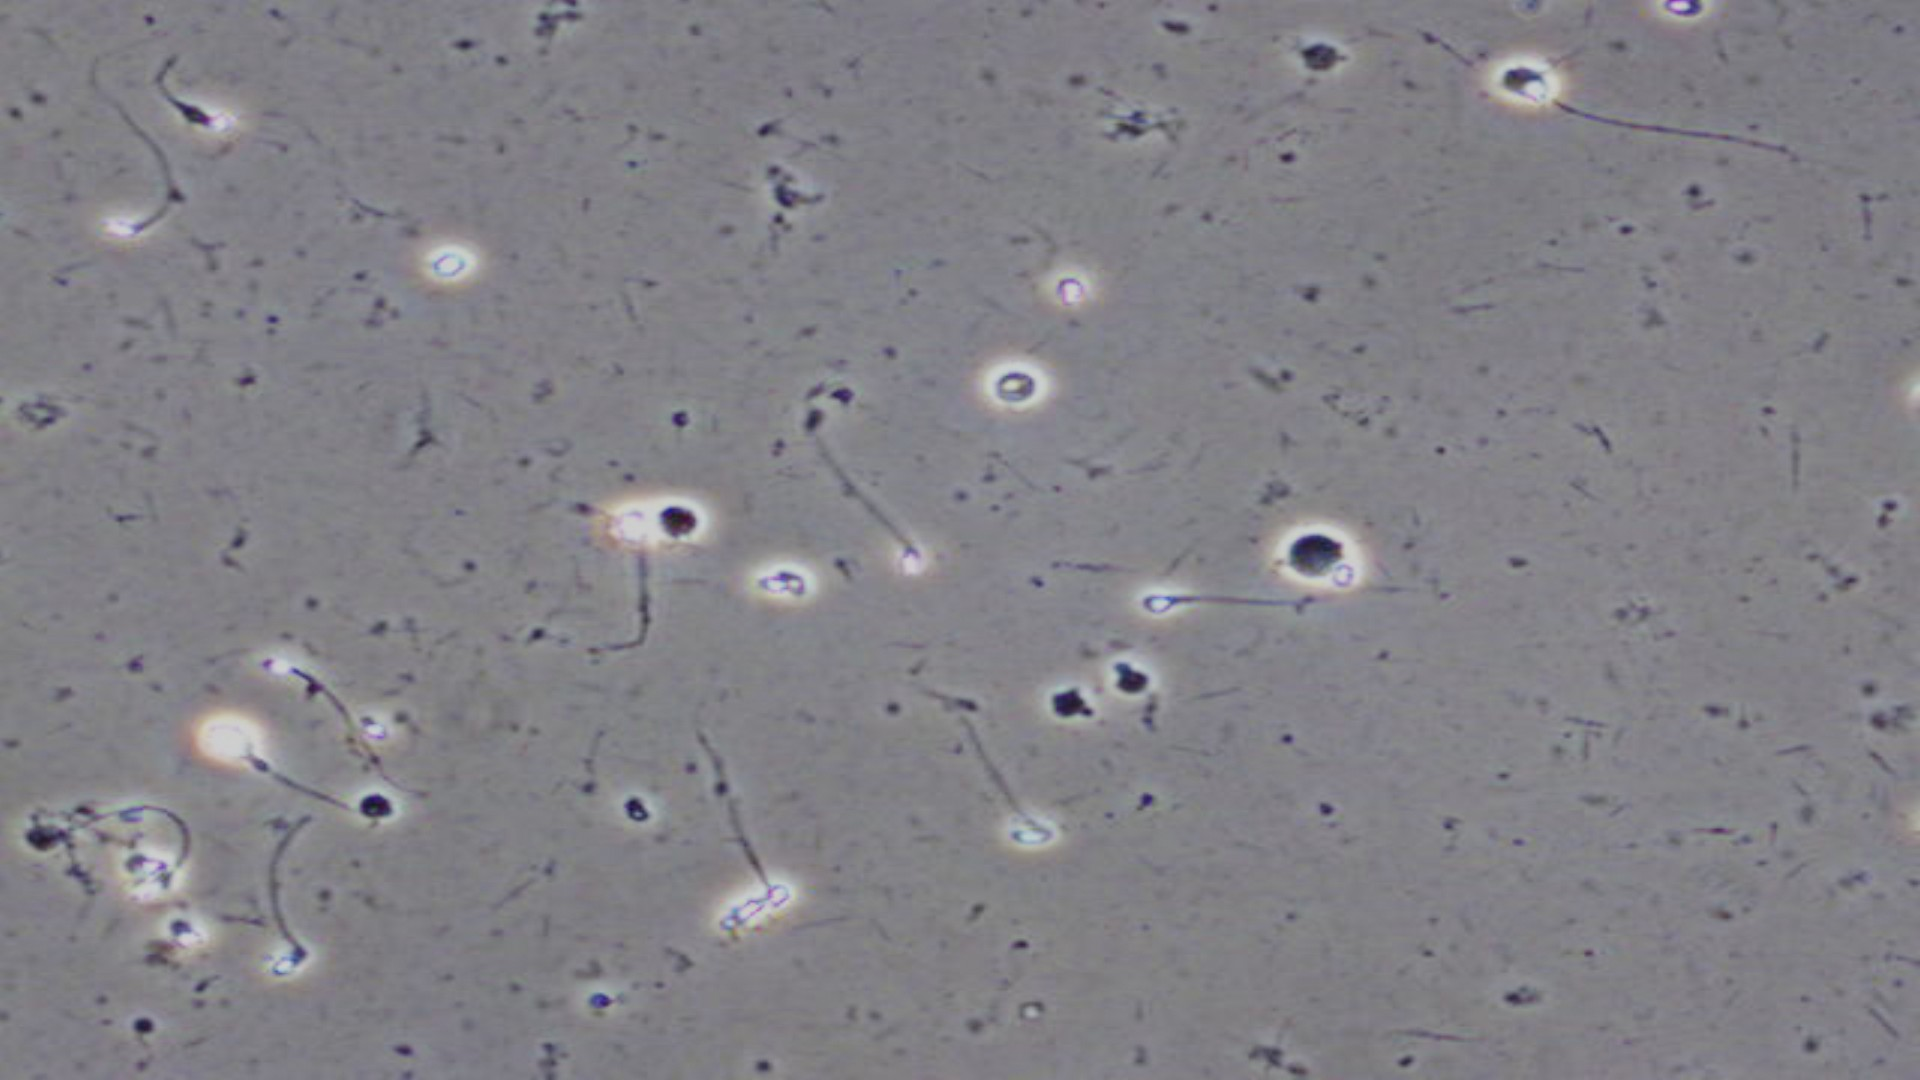sperm: (99, 166, 233, 301), (968, 742, 1064, 853), (851, 467, 939, 578), (249, 862, 328, 981), (1121, 567, 1249, 638), (202, 705, 286, 799), (720, 802, 793, 907), (146, 53, 232, 135), (257, 641, 343, 711)
